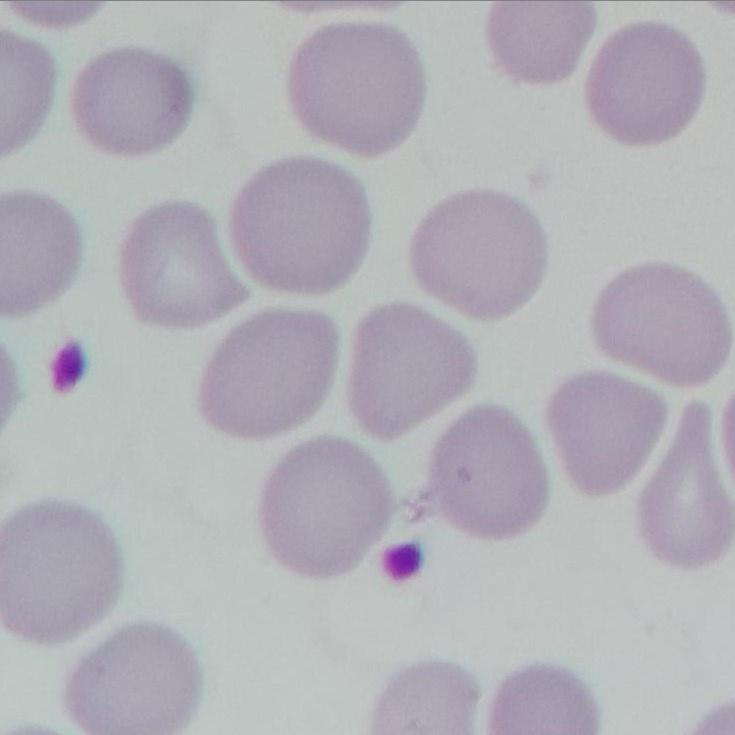Uninfected: (228, 158, 373, 298), (199, 309, 342, 441), (284, 22, 422, 158), (409, 189, 549, 321), (347, 301, 476, 441), (0, 501, 123, 645), (424, 403, 550, 542), (261, 443, 391, 576), (593, 263, 730, 389), (120, 202, 248, 327), (65, 623, 201, 735), (547, 372, 665, 498), (638, 404, 729, 565), (586, 21, 705, 144), (73, 50, 187, 155), (1, 192, 80, 316), (486, 3, 596, 84), (485, 664, 600, 734), (370, 661, 478, 733)
